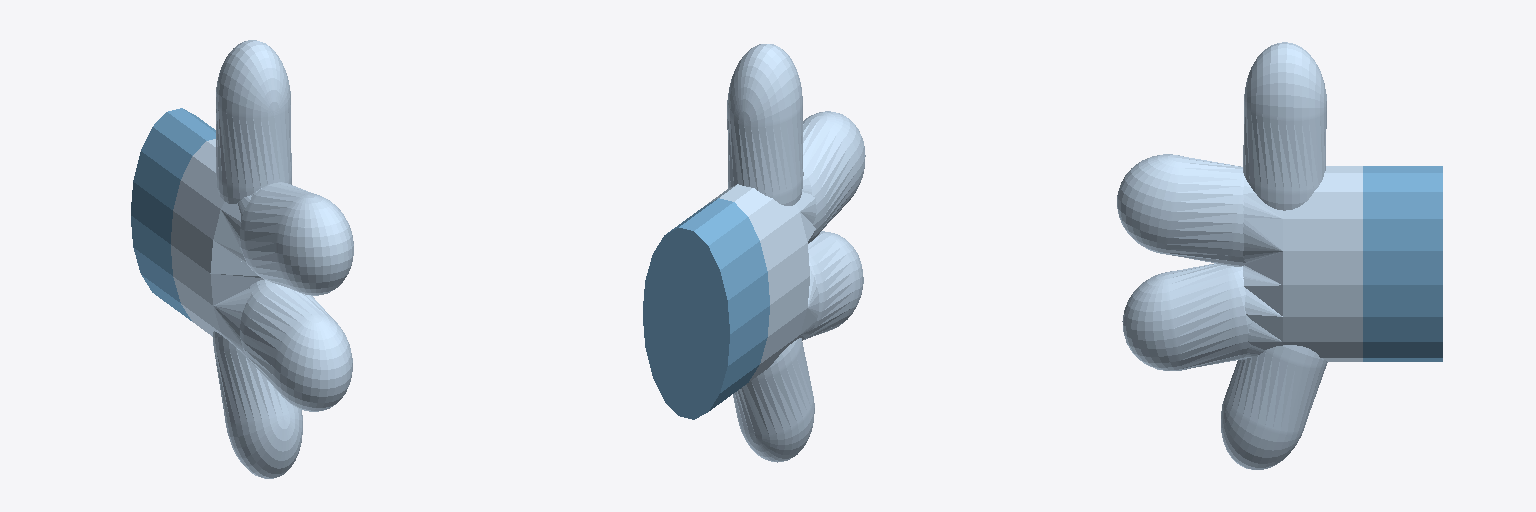
3 views of the same model, side by side, from view 1: azimuth 30°, elevation 25°; view 2: azimuth 150°, elevation 25°; view 3: azimuth 270°, elevation 25° (orthographic).
Visible parts, largest first — view 1: Cylinder009; view 2: Cylinder009; view 3: Cylinder009.
Boxes of the visible parts, box(x1,y1,x2,y2) form: Cylinder009: box(131, 40, 353, 478); Cylinder009: box(643, 44, 865, 462); Cylinder009: box(1117, 42, 1442, 469).
Bounding box in the file's own units: 6.07 × 28.02 × 19.53.
1 materials, 1 textured.